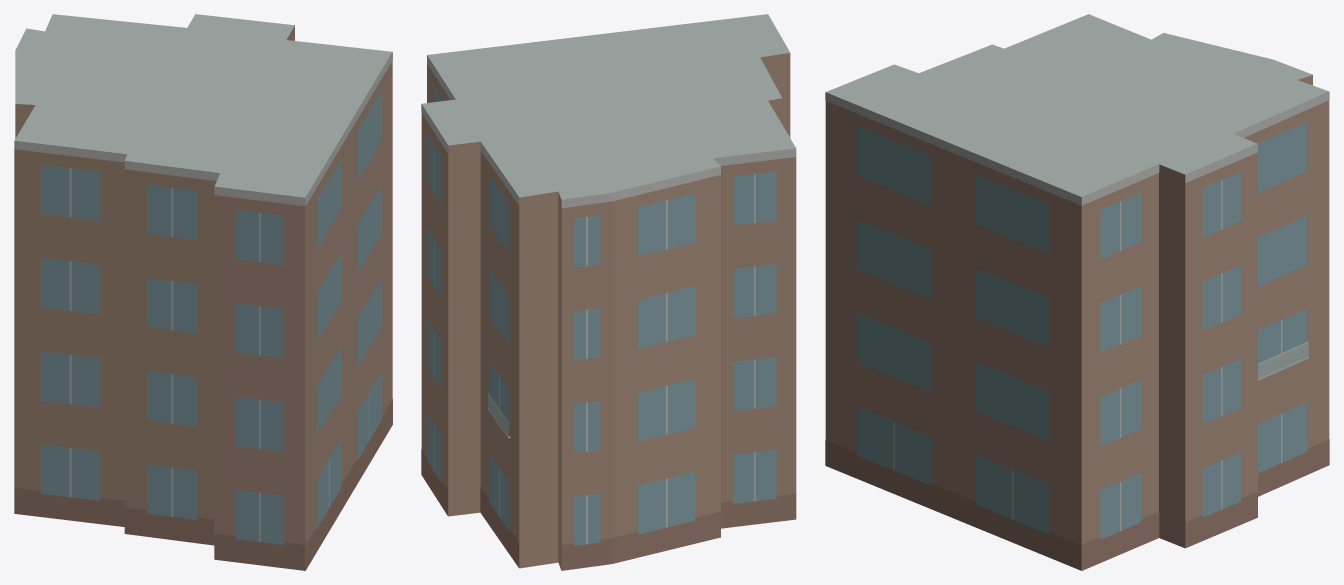
The model's file is survey-upis-32659653.glb.
3 renders of one model, left to right at view 1: azimuth 30°, elevation 25°; view 2: azimuth 150°, elevation 25°; view 3: azimuth 270°, elevation 25°, orthographic.
Visible parts, largest first — view 1: survey-upis-32659653.tmp; view 2: survey-upis-32659653.tmp; view 3: survey-upis-32659653.tmp.
Part boxes in pixels (x1,y1,x2,y2): survey-upis-32659653.tmp: [14, 14, 392, 570]; survey-upis-32659653.tmp: [421, 14, 796, 570]; survey-upis-32659653.tmp: [825, 14, 1329, 570].
Size of the model in its own units: 11.26 by 10.7 by 13.08.
